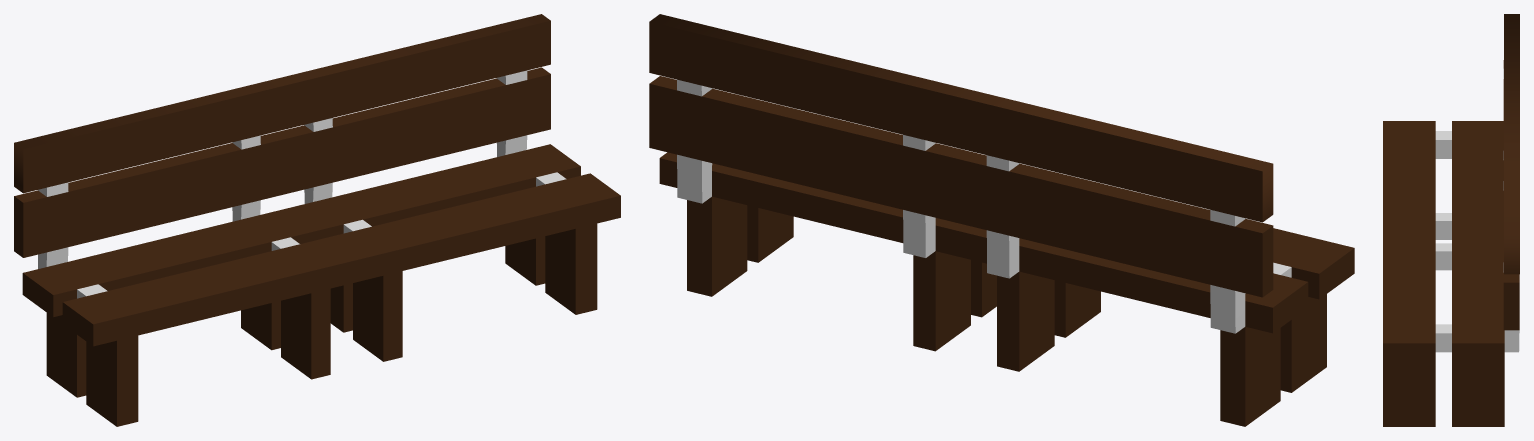
File: bench.fbx
The picture shows the model from 3 angles, left to right: view 1: azimuth 30°, elevation 25°; view 2: azimuth 150°, elevation 25°; view 3: azimuth 270°, elevation 25°; orthographic projection. The views are drawn at different scales.
Parts seen in each view (by area): view 1: group4_pasted__pCube1; view 2: group4_pasted__pCube1; view 3: group4_pasted__pCube1.
Boxes of the visible parts, x1=… form: group4_pasted__pCube1: x1=14, y1=14, x2=620, y2=426; group4_pasted__pCube1: x1=649, y1=14, x2=1354, y2=426; group4_pasted__pCube1: x1=1383, y1=14, x2=1519, y2=426.
Bounding box in the file's own units: 100 × 42.03 × 25.97.
